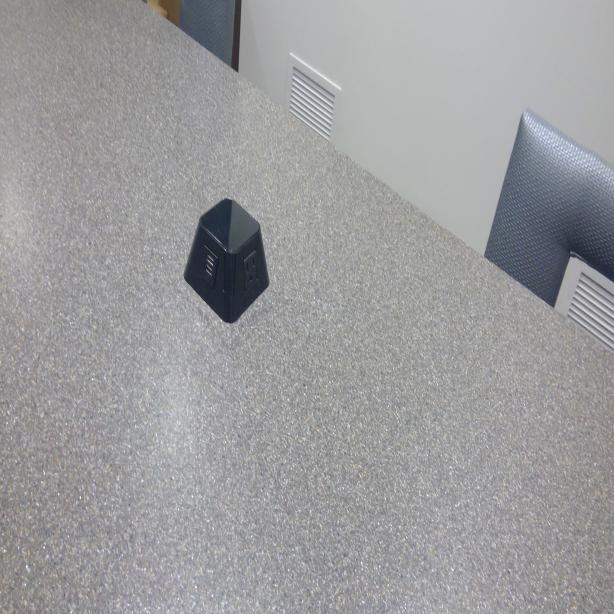typeb: (243, 252, 260, 286)
